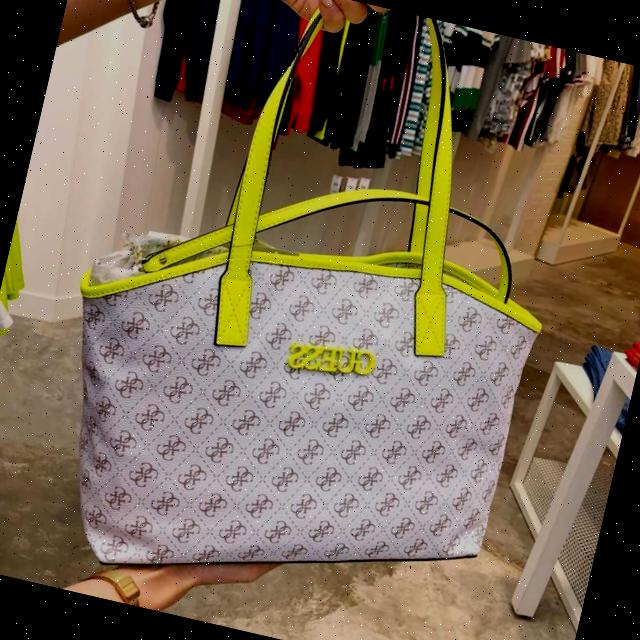Handbag: (11, 168, 549, 640)
